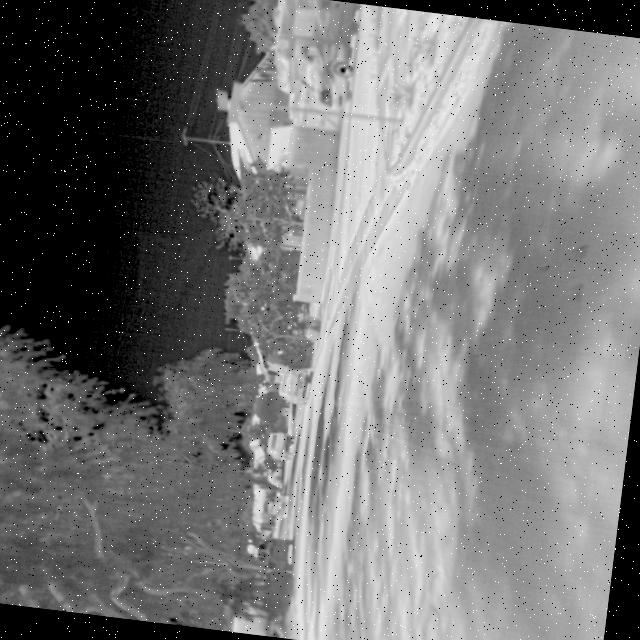Vehicle: (263, 0, 364, 111), (250, 532, 296, 574), (276, 364, 314, 408), (262, 429, 296, 462), (264, 492, 292, 518)
